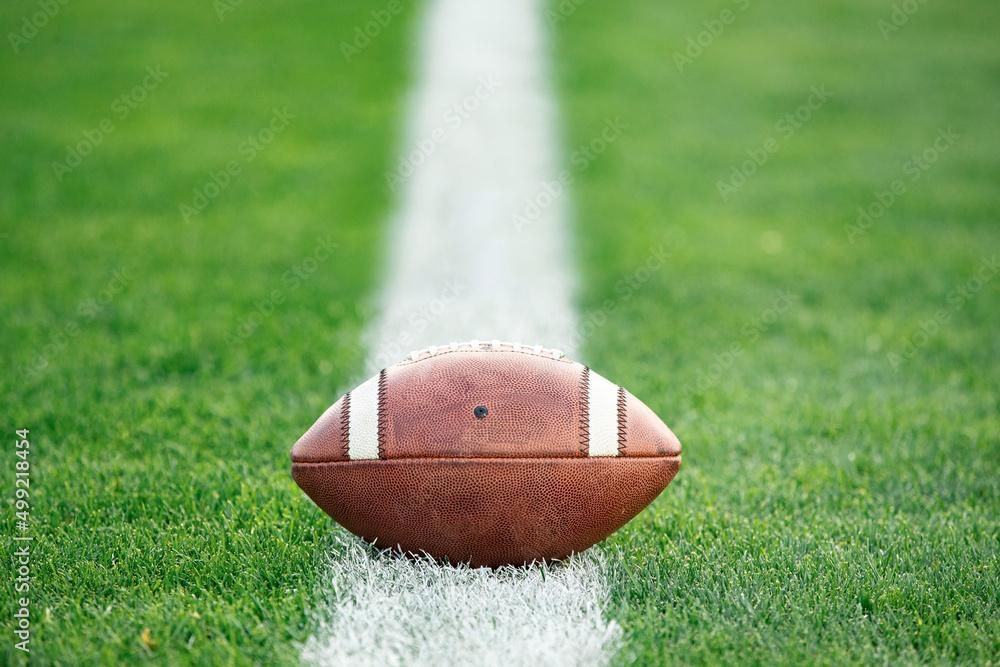Sports-Ball: (291, 340, 682, 566)
